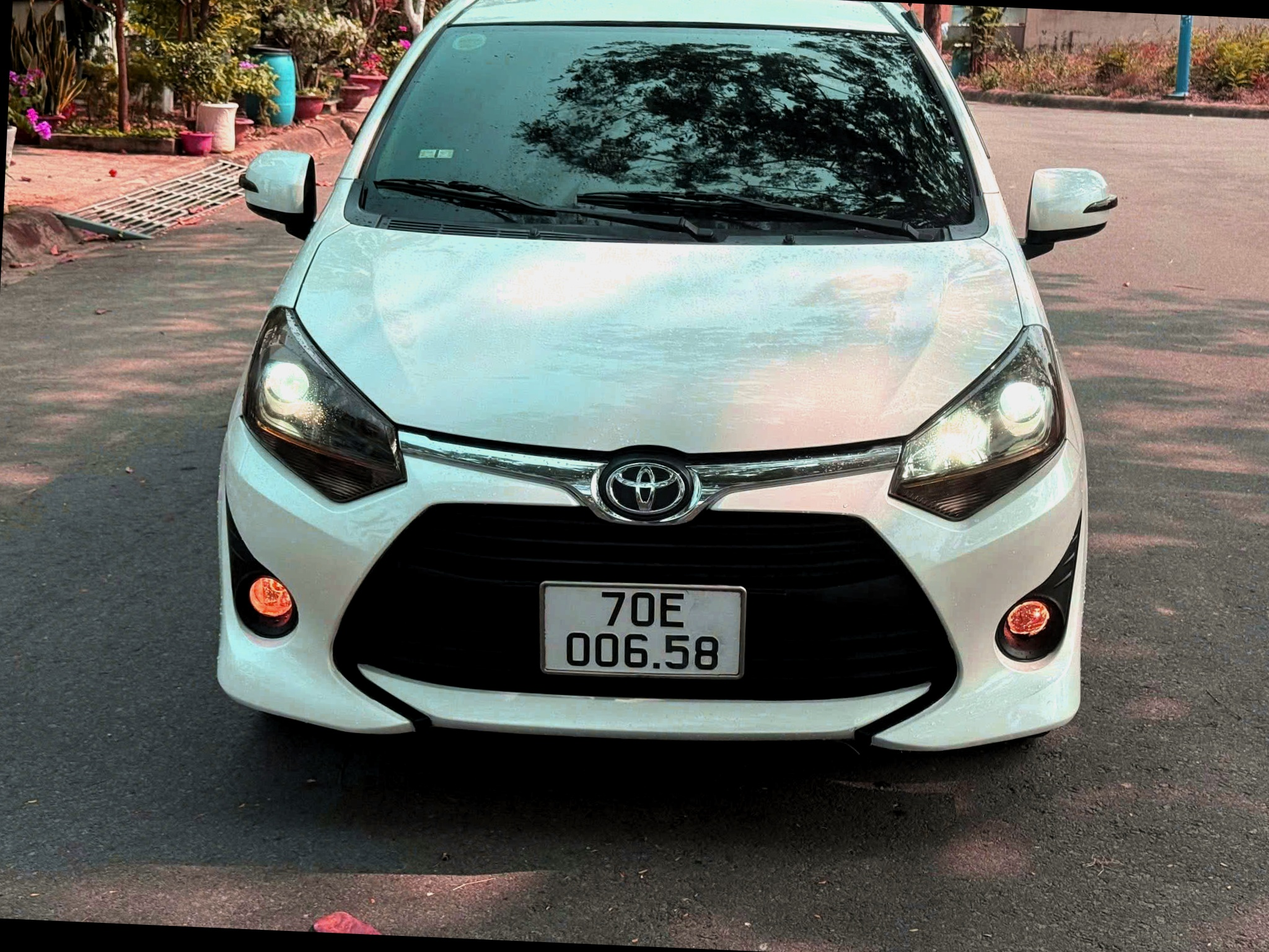Bien-so: (546, 565, 745, 677)
